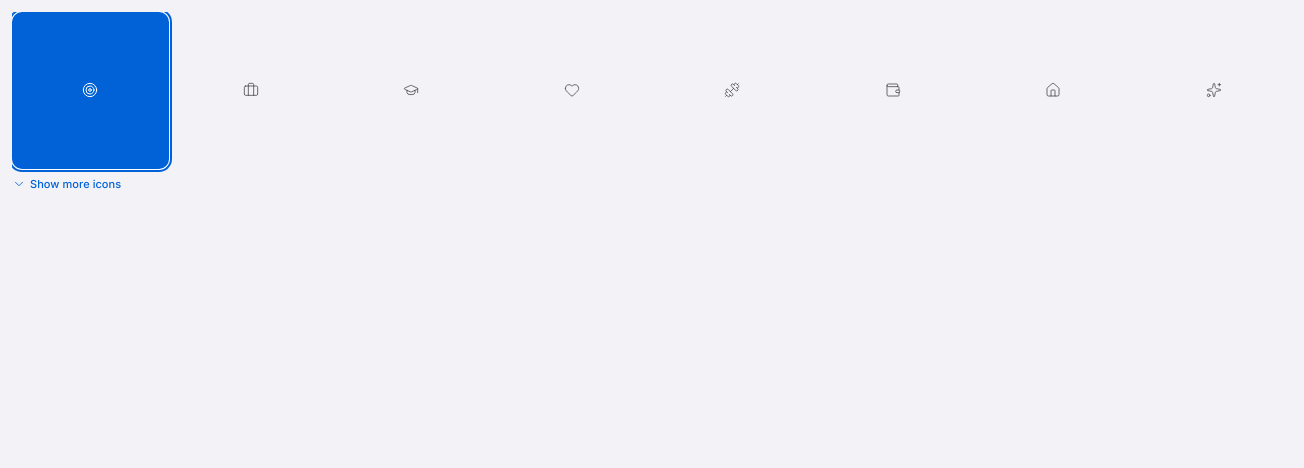
Test: icon picker › shows the group headings once expanded
Click the button "Show more icons" at point(67, 184), box [12,176,121,190]
(page scrolled)
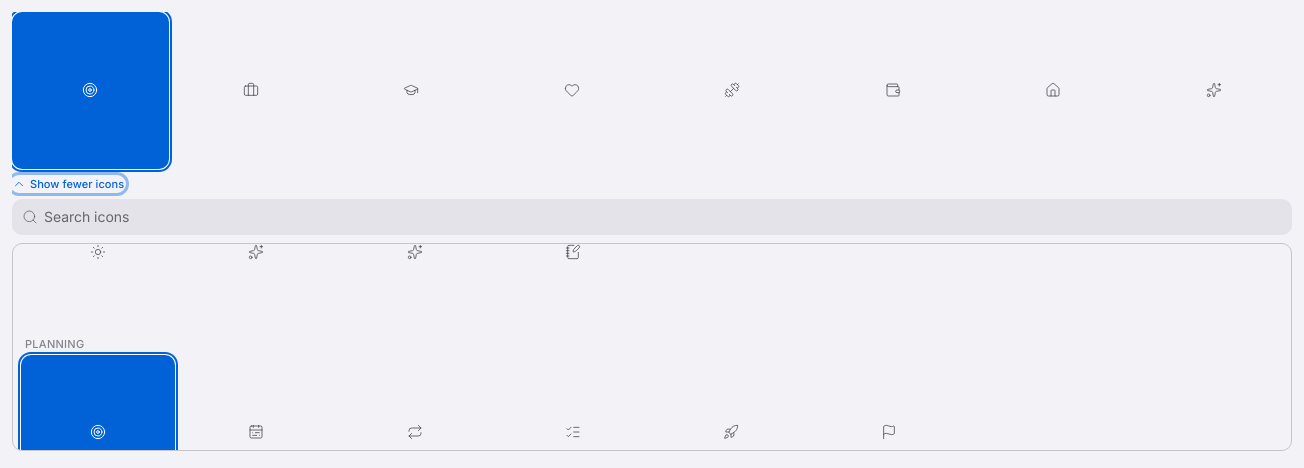
Expected: the text "Planning" is shown, [25,336,84,350]
